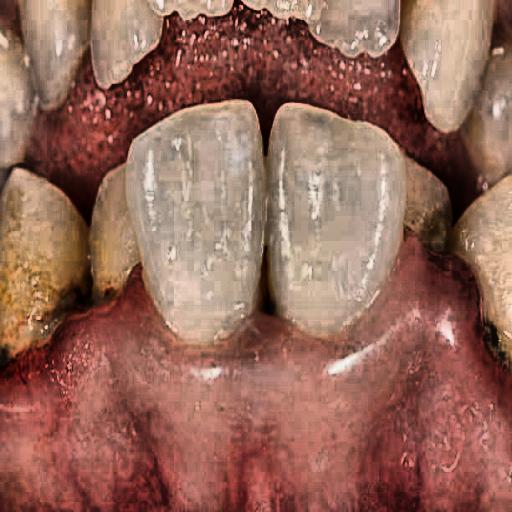Gingivitis: (14, 252, 507, 512)
